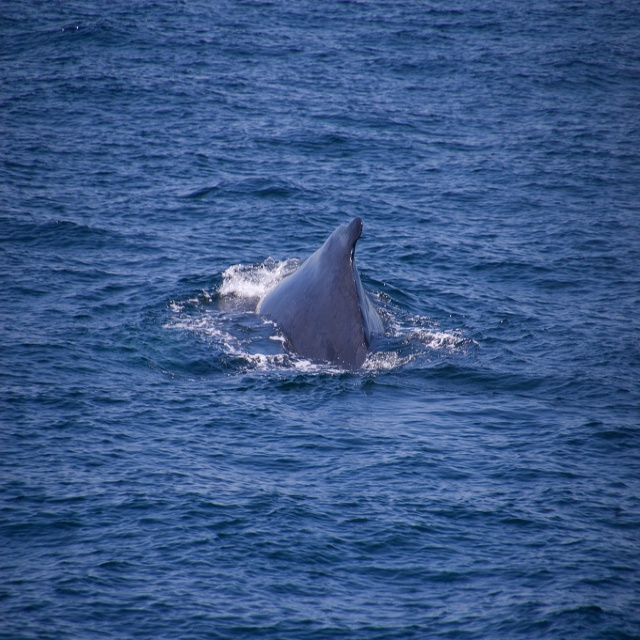Whale: (255, 217, 385, 373)
